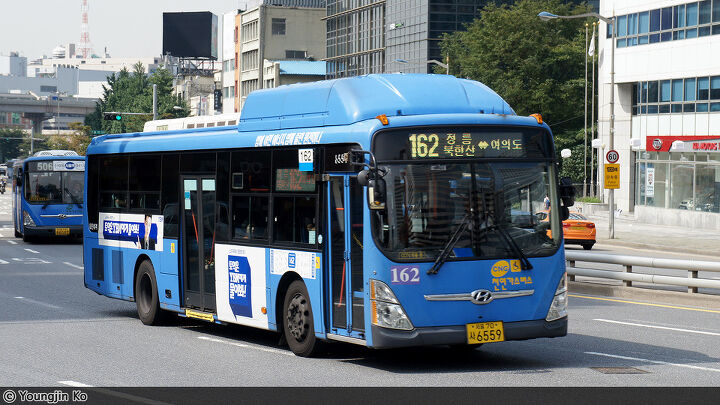bnum: (404, 129, 443, 159)
